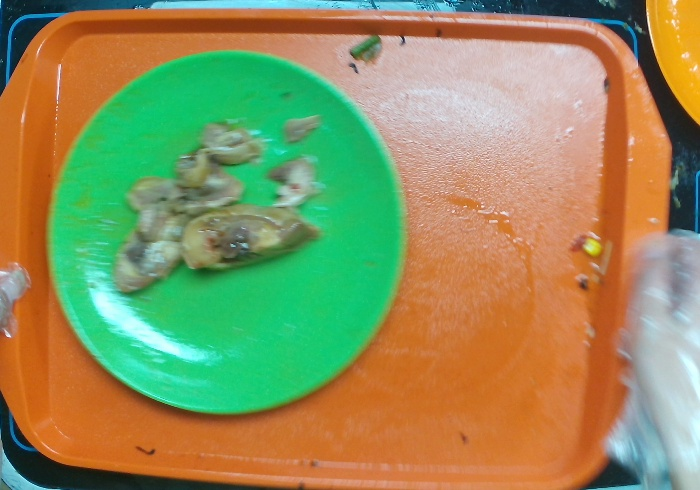HZYJPL-Lv_Se_Yuan_Pan: (46, 50, 410, 412)
